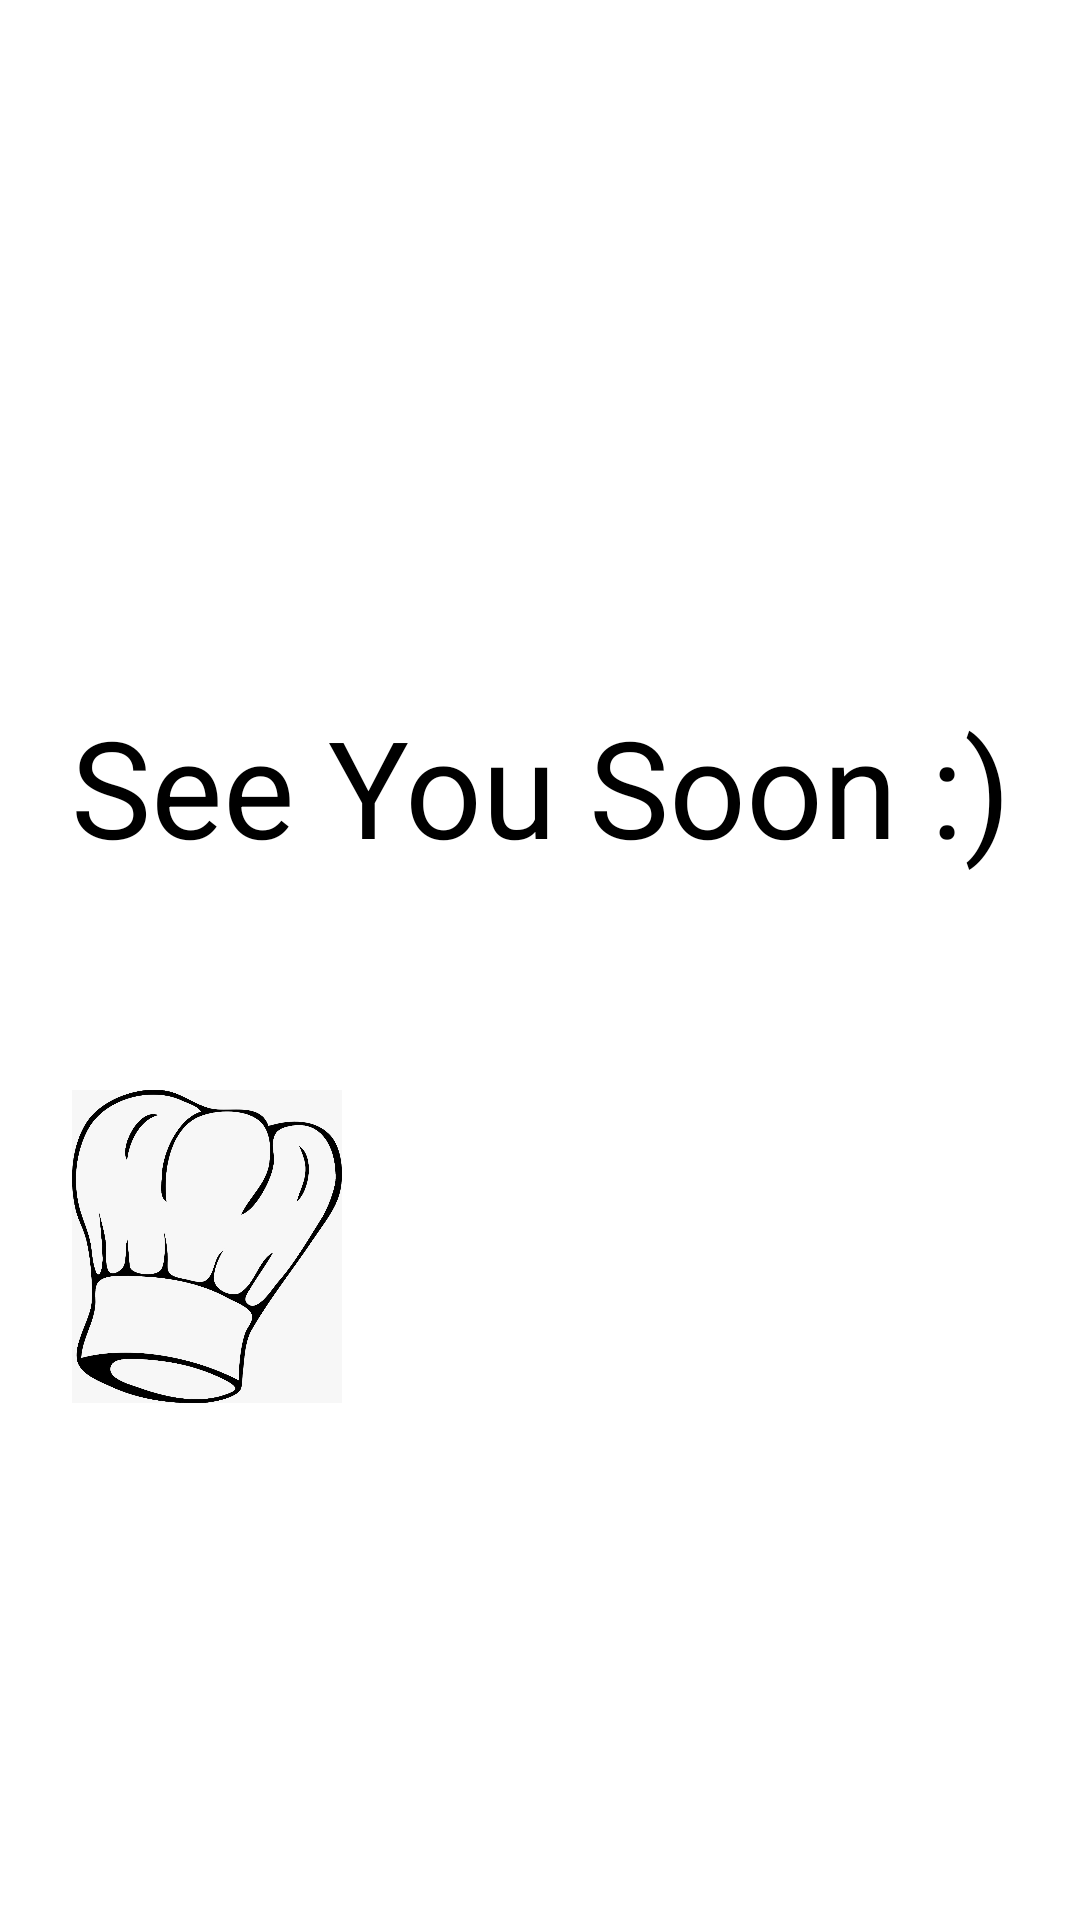

Screen size 1080w x 1920h. Icon name, then its center in pixels as point (x, y):
chef animation: point (207, 1246)
